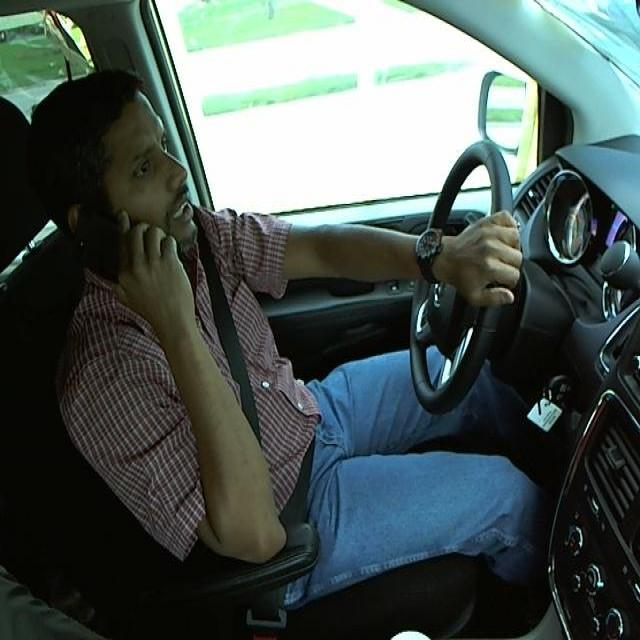using_phone: (16, 61, 248, 306)
